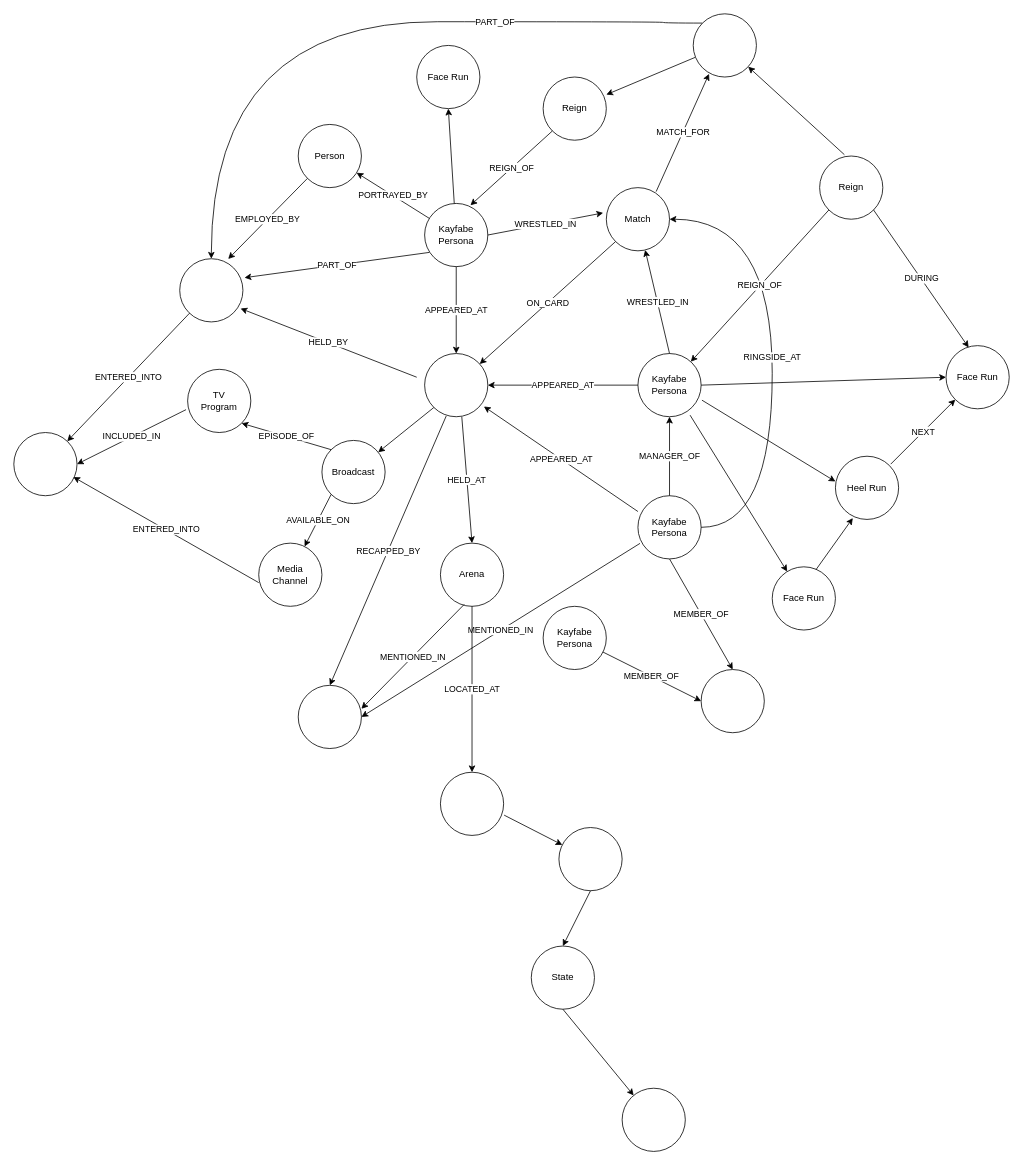
Image size: 1023x1165. Some labels were removed from this diagram. Here are the shapes that lost their labels. From the top down, the centre of each, then its label:
At (724,45): "Title".
At (211,290): "Promotion".
At (456,385): "Event".
At (45,464): "Rights Deal".
At (329,717): "Article".
At (732,701): "Tag Team".
At (472,803): "Address".
At (590,859): "City".
At (653,1119): "Country".
